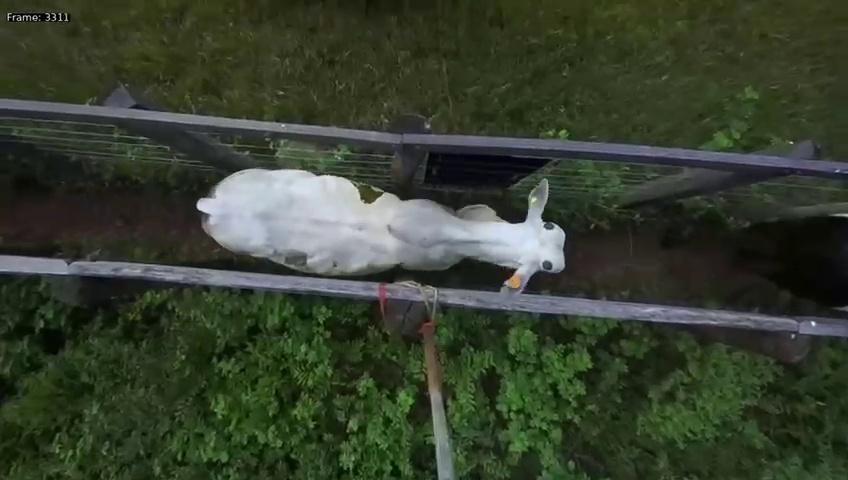cattle: (178, 153, 573, 308)
